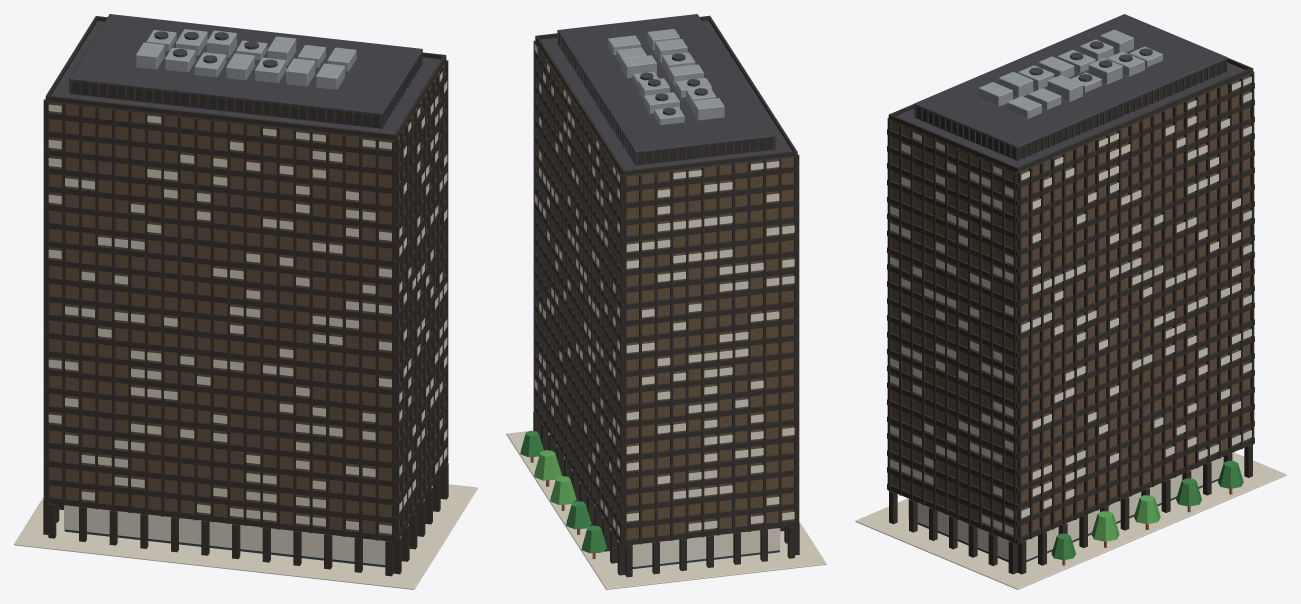
The model's file is 50-beale.glb.
3 views of the same model, side by side, from view 1: azimuth 30°, elevation 25°; view 2: azimuth 150°, elevation 25°; view 3: azimuth 270°, elevation 25° (orthographic). The views are drawn at different scales.
Visible parts, largest first — view 1: 50-beale_body, 50-beale_night_glow; view 2: 50-beale_body, 50-beale_night_glow; view 3: 50-beale_body, 50-beale_night_glow.
Boxes of the visible parts, <box> form: 50-beale_body: <box>14,14,477,589</box>; 50-beale_night_glow: <box>48,71,447,565</box>; 50-beale_body: <box>506,14,826,589</box>; 50-beale_night_glow: <box>534,44,794,566</box>; 50-beale_body: <box>855,14,1286,589</box>; 50-beale_night_glow: <box>890,76,1251,560</box>.
Size of the model in its own units: 90.45 by 100 by 90.29.
